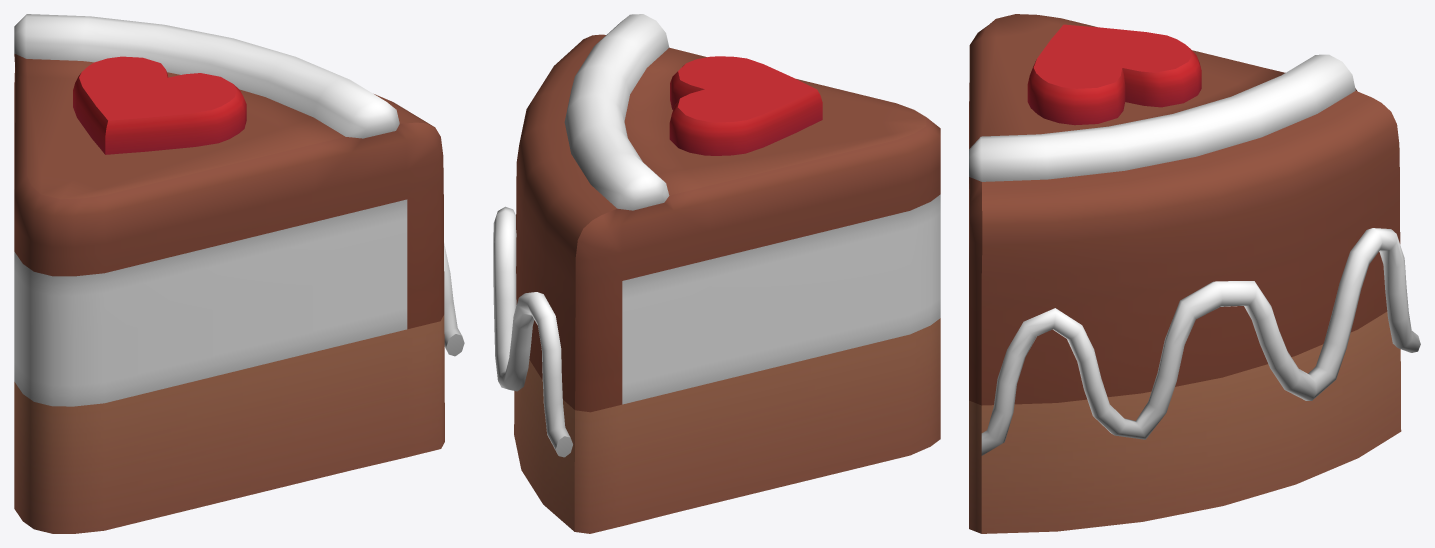
Rendered from cake12_slice.FBX.
3 views of the same model, side by side, from view 1: azimuth 30°, elevation 25°; view 2: azimuth 150°, elevation 25°; view 3: azimuth 270°, elevation 25° (orthographic). The views are drawn at different scales.
Parts seen in each view (by area): view 1: cake12_slice; view 2: cake12_slice; view 3: cake12_slice.
Boxes of the visible parts, x1,y1,x2,y2 form: cake12_slice: (14, 14, 464, 533); cake12_slice: (493, 14, 940, 533); cake12_slice: (969, 14, 1420, 533).
Bounding box in the file's own units: 0.00919 × 0.00763 × 0.00857.
